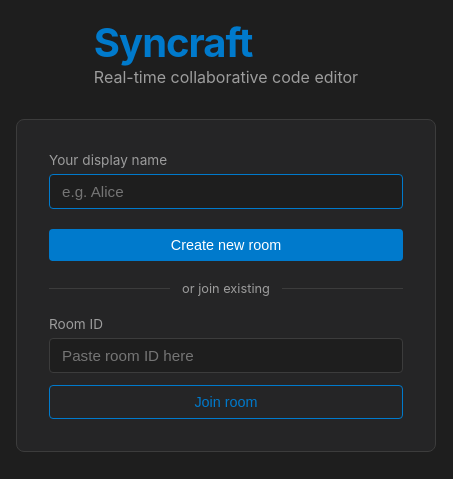
LandingPage username validation › empty room ID in join form shows an error
The width and height of the screenshot is (453, 479).
Type "Bob" into the field labelled "Your display name" at x=226, y=192, box [49,174,403,209]
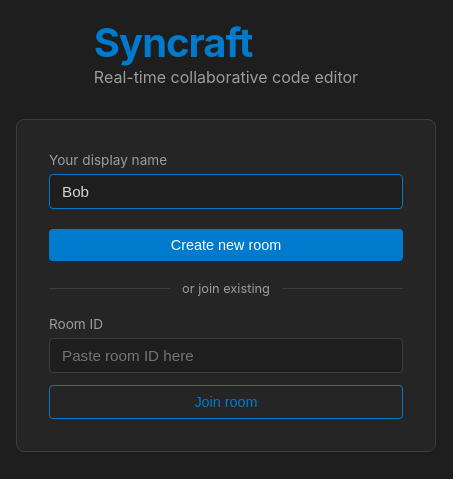
Click the button "Join room" at x=226, y=402, box [49,385,403,419]
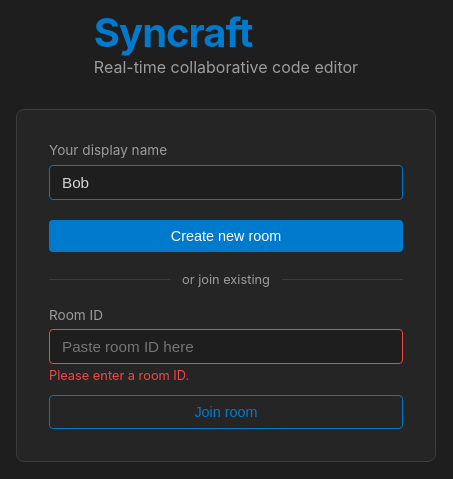
Check: the message "Please enter a room ID." is shown, box [49,368,189,383]
